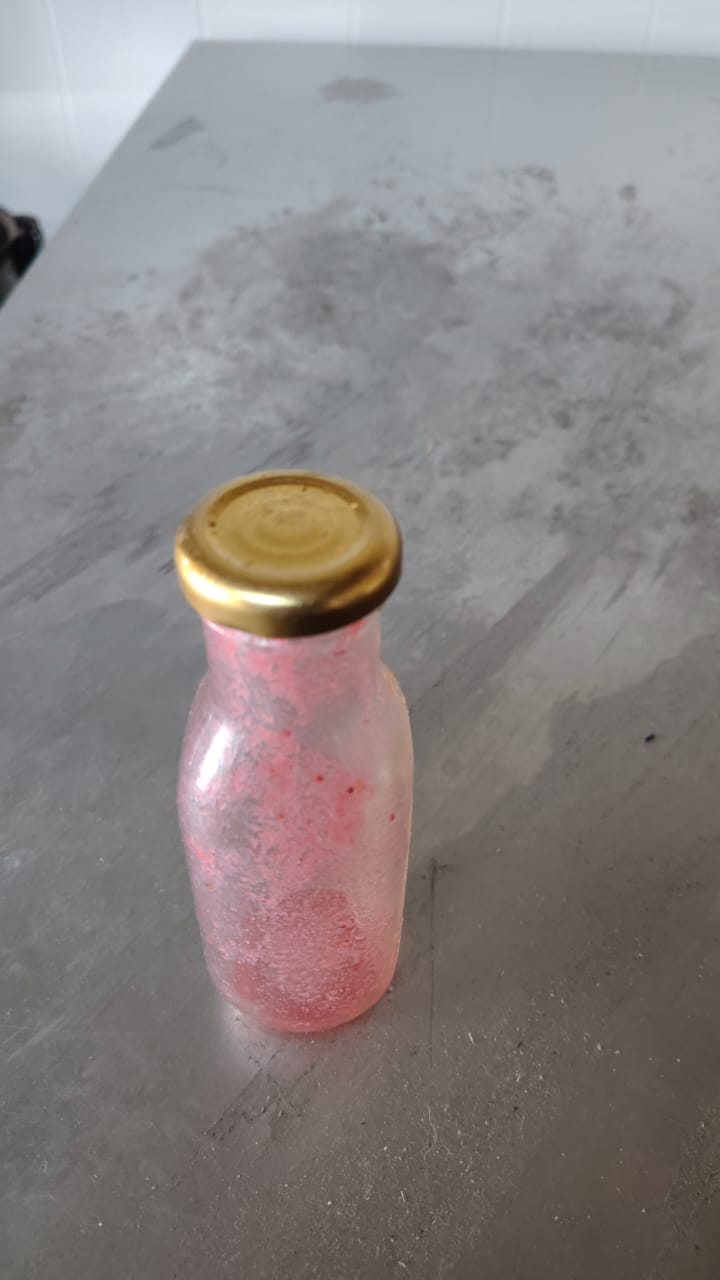Metal: (175, 470, 405, 628)
Vidrio: (177, 630, 414, 1032)
